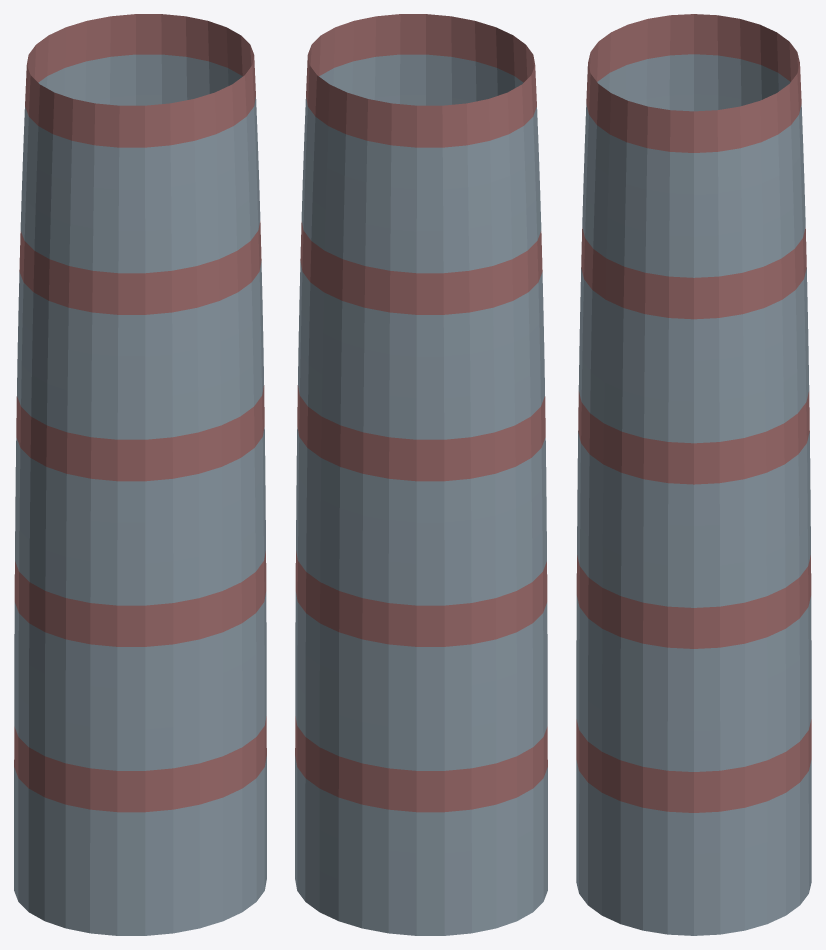
Rendered from torreglories.glb.
3 renders of one model, left to right at view 1: azimuth 30°, elevation 25°; view 2: azimuth 150°, elevation 25°; view 3: azimuth 270°, elevation 25°, orthographic.
Size of the model in its own units: 34 by 120 by 31.28.
